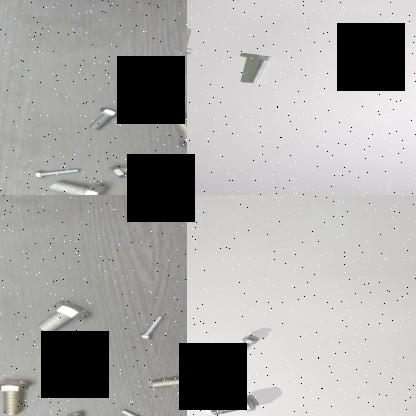Bolts: (35, 296, 91, 336), (214, 332, 268, 367), (0, 377, 34, 416), (82, 104, 126, 134), (201, 395, 255, 416), (104, 158, 156, 178), (247, 52, 274, 90), (48, 178, 108, 195), (163, 108, 187, 150), (135, 313, 173, 339), (143, 172, 185, 192), (149, 371, 187, 391), (26, 164, 80, 178), (117, 407, 159, 416), (57, 410, 103, 416), (187, 24, 194, 59)
